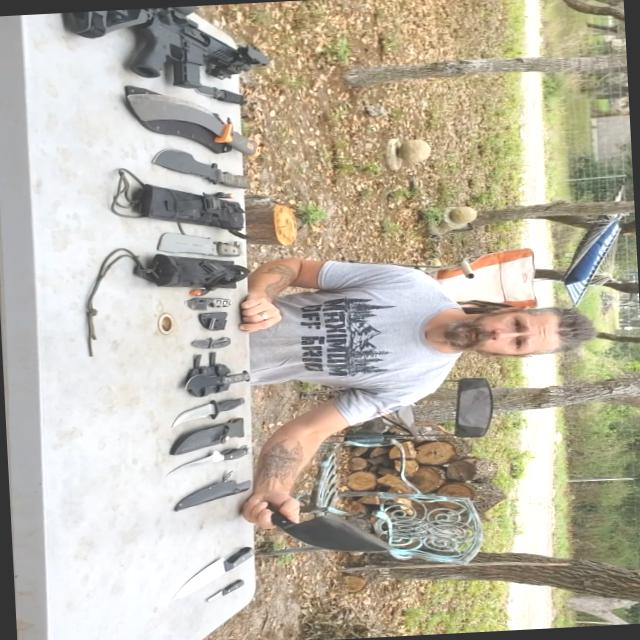knife: (242, 481, 404, 574), (108, 79, 270, 167), (142, 136, 260, 201), (168, 540, 276, 608), (144, 217, 244, 270), (160, 442, 254, 478), (162, 396, 253, 428), (182, 76, 262, 112), (182, 361, 258, 393), (192, 574, 252, 612), (174, 291, 237, 320), (183, 329, 240, 356)
long weapon: (51, 0, 300, 110)
